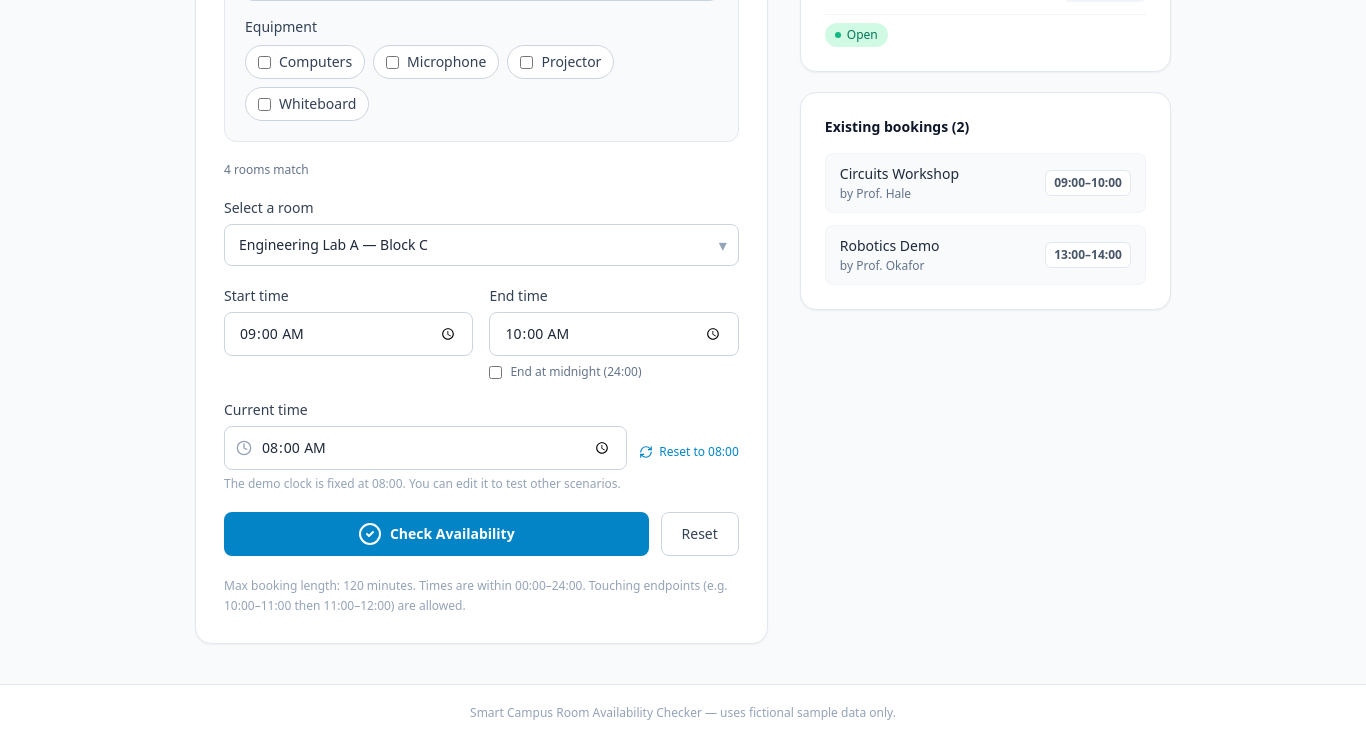
Scenario: App integration (UI behavior) › UI2 (F5): changing the room clears the result and uses the new room bookings
(page scrolled)
Click the button "Check Availability". click: click(436, 534)
box: [224,512,648,556]
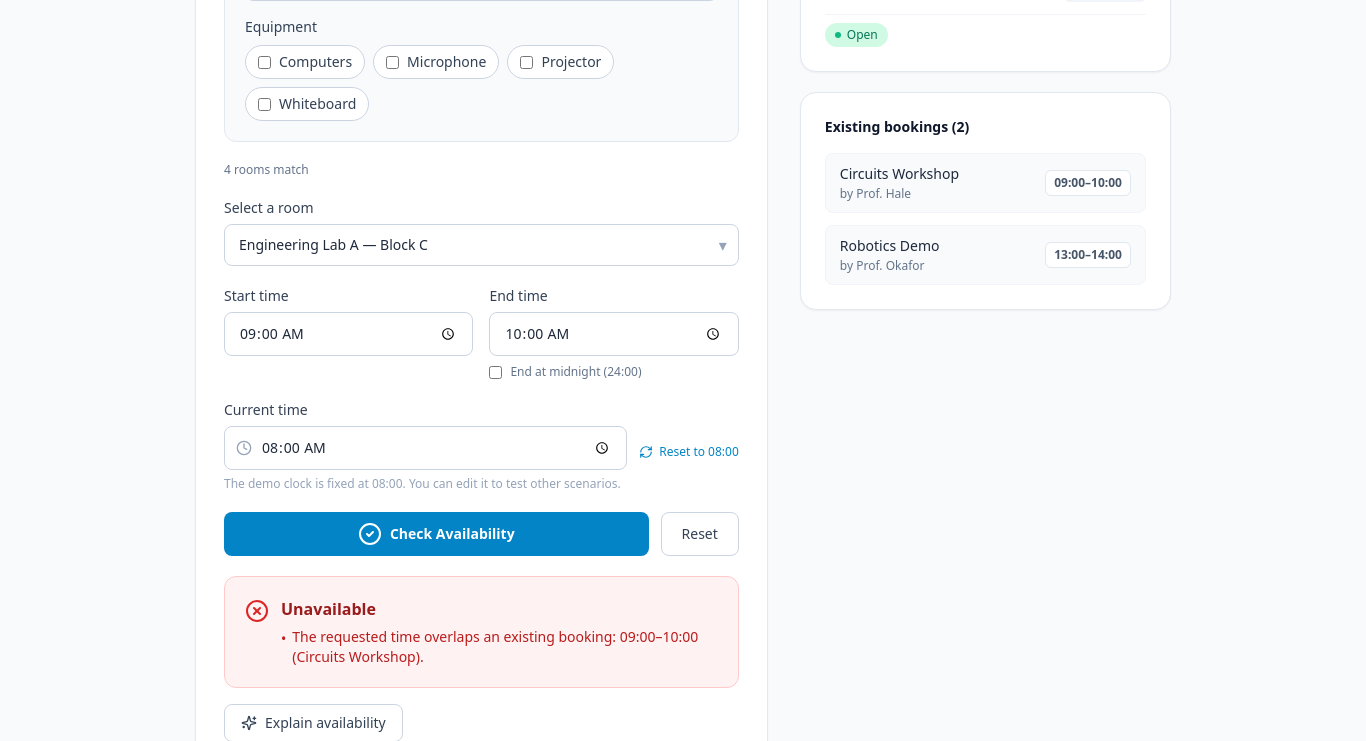
Now the text "Unavailable" is shown, box [281,598,376,620]
Select "Lecture Hall B — Block A" in the dropdown labelled "Select a room". click: (481, 245)
box: [224,224,739,266]
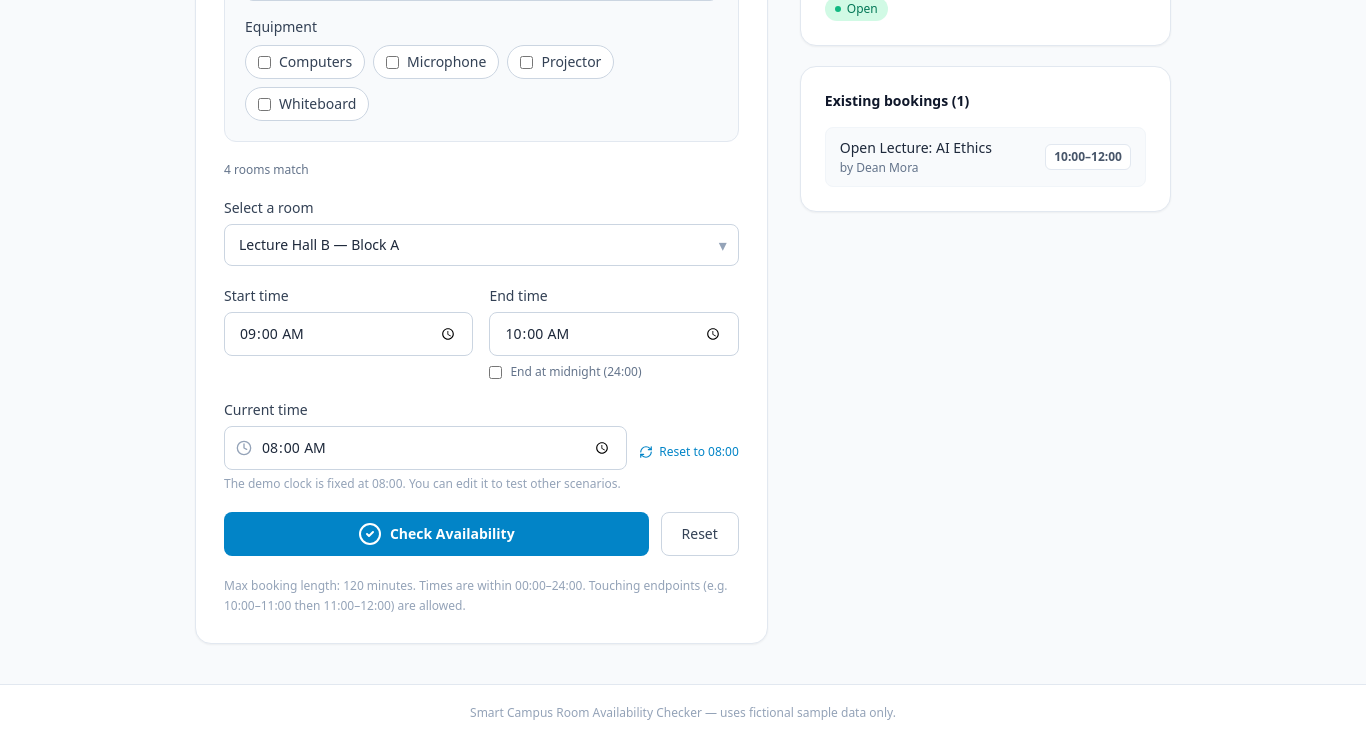
Now the text "Unavailable" is gone
Click the button "Check Availability". click: click(436, 534)
box: [224,512,648,556]
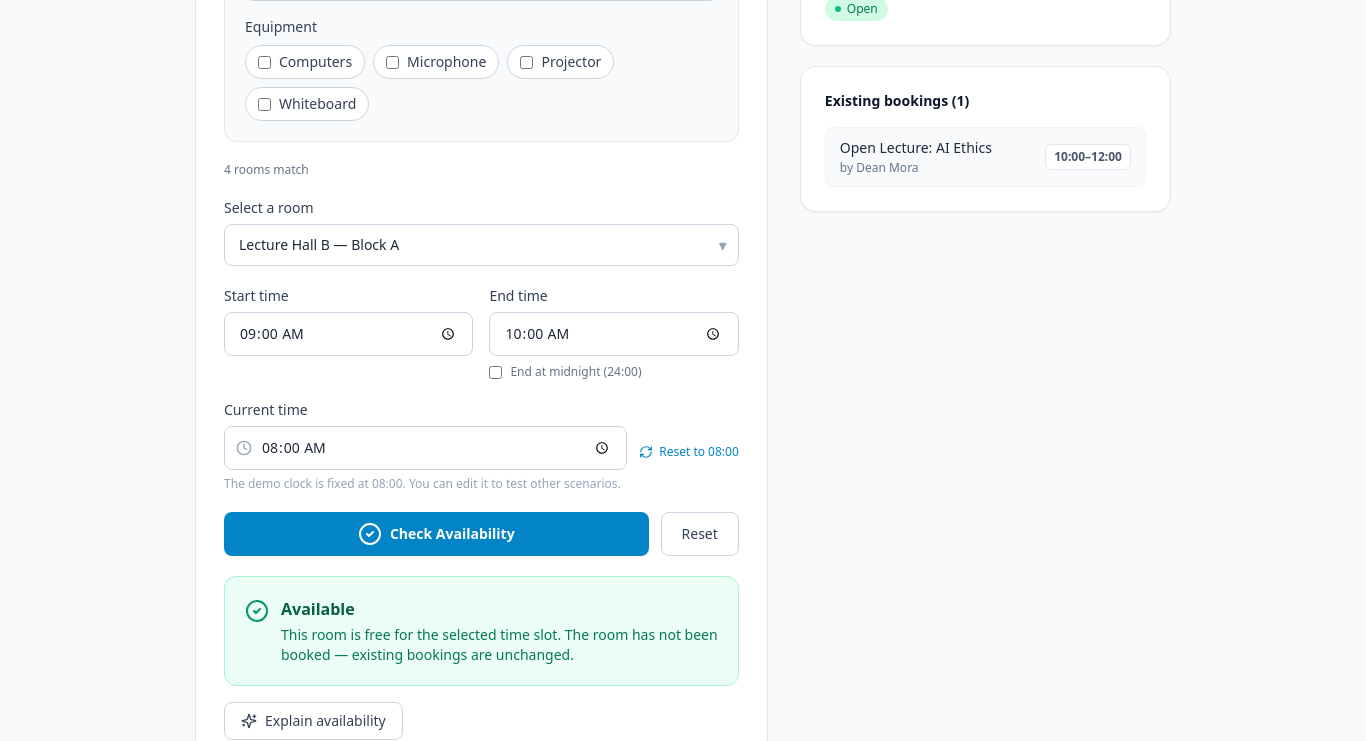
Now the text "Available" is shown, box [281,598,355,620]
